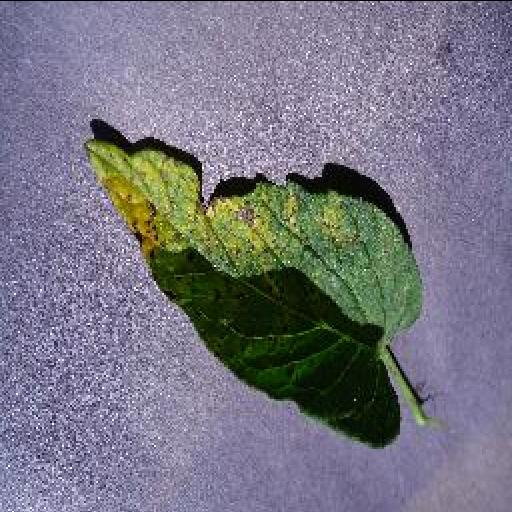disease_tomato: (82, 137, 420, 451)
